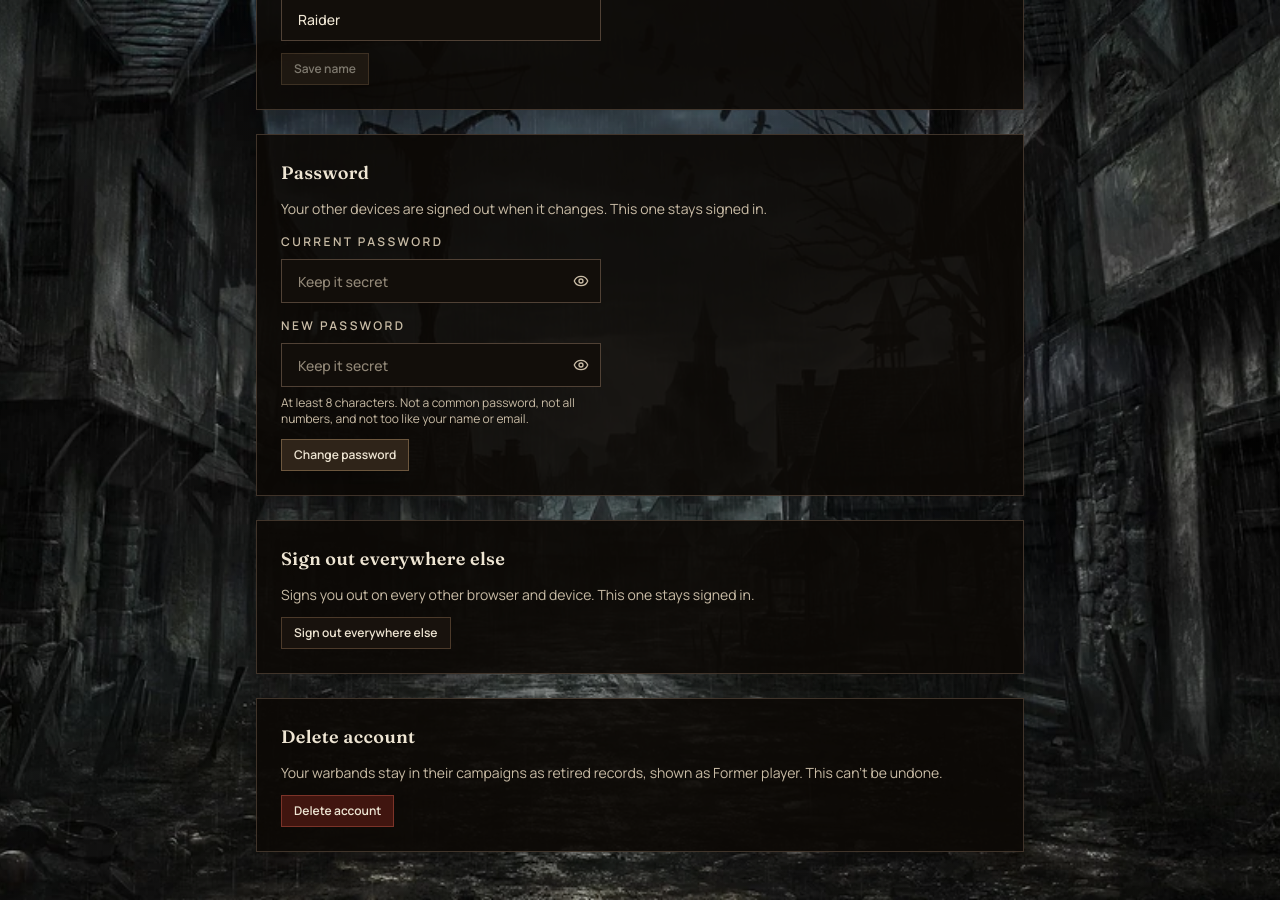
Test: deleting your account (AUTH-NEW-05) › lists the campaigns to hand over first, each linked to its settings, and can't be confirmed
(page scrolled)
What coordinates should you click on to do the following:
click the button "Delete account"
I would click on:
 (338, 811)
Its box is [281,795,394,827].
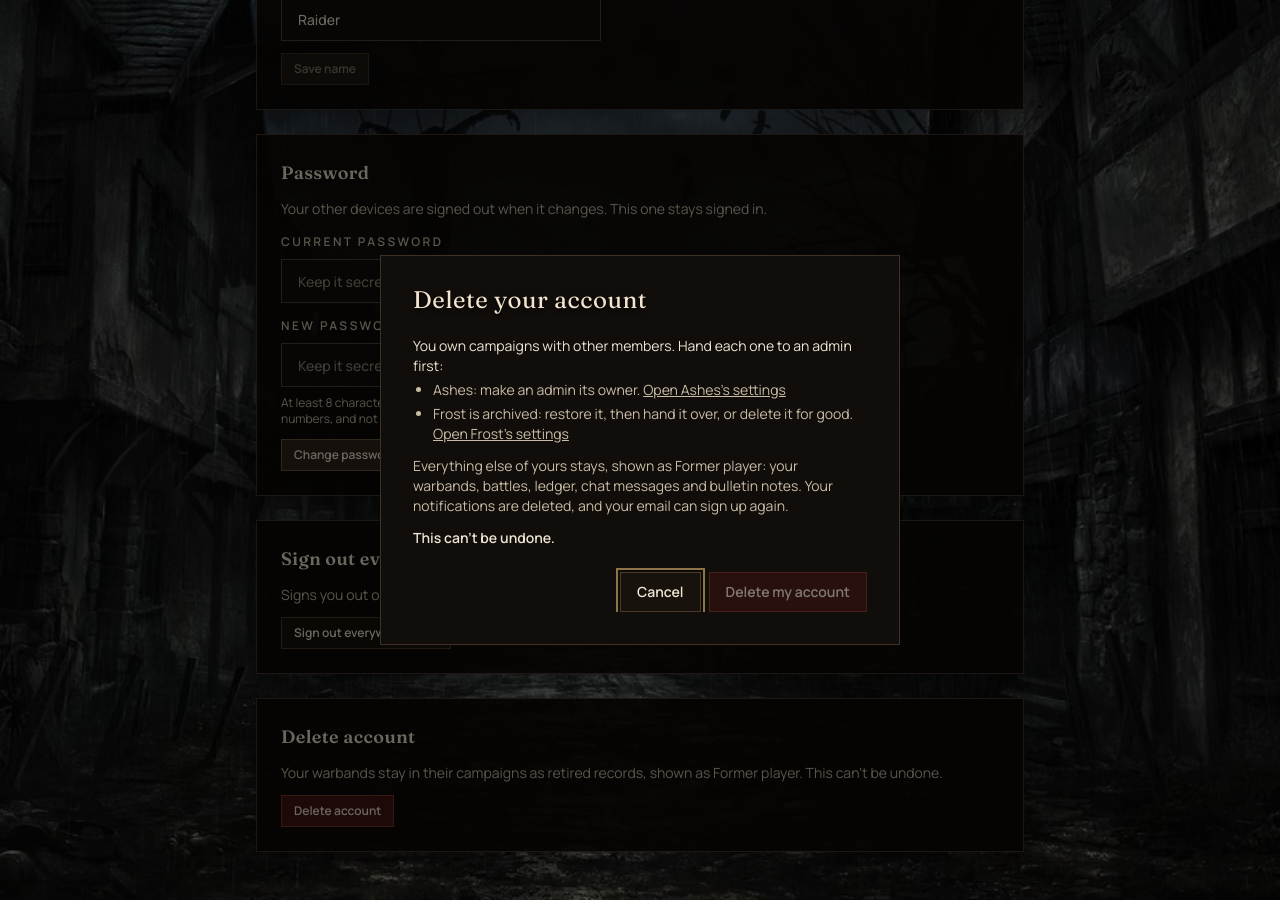
Expected: the list named "Hand over first" shows "Ashes: make an admin its owner.", [433,380,643,399]
Expected: the list named "Hand over first" shows "Frost is archived: restore it, then hand it over, or delete it for good.", [433,404,853,423]
Expected: the button "Delete my account" is disabled, [708,572,867,612]
